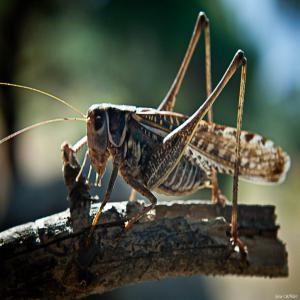locust: (59, 41, 300, 225)
